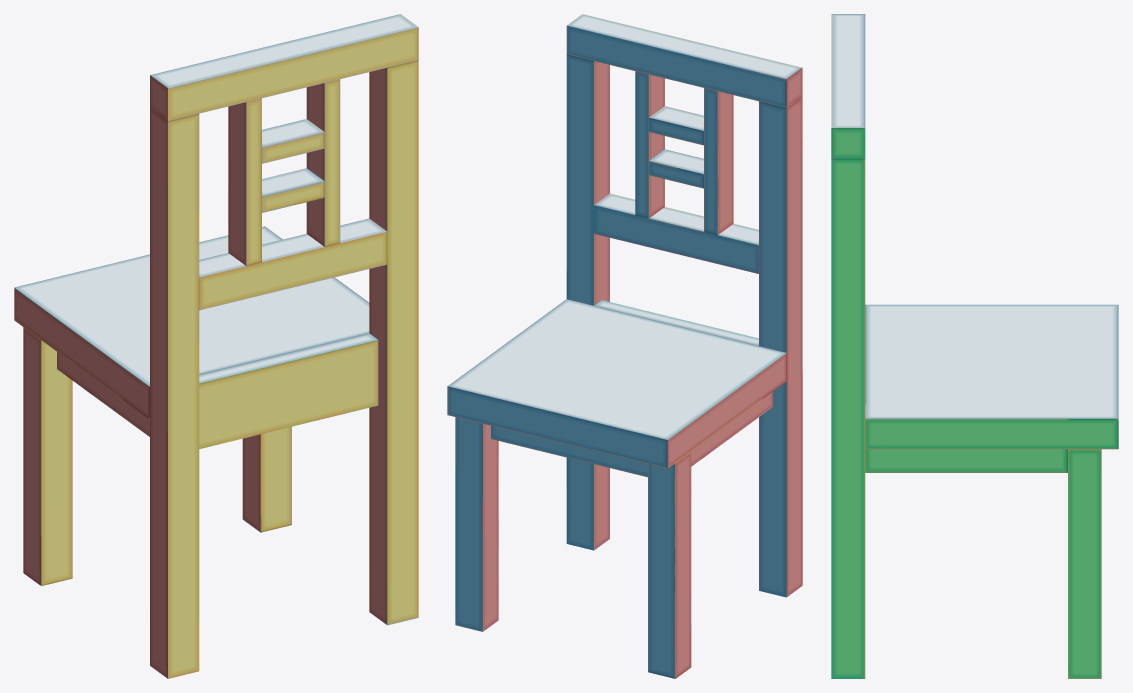
The model's file is Silla de Madera.fbx.
3 views of the same model, side by side, from view 1: azimuth 30°, elevation 25°; view 2: azimuth 150°, elevation 25°; view 3: azimuth 270°, elevation 25° (orthographic). The views are drawn at different scales.
Parts seen in each view (by area): view 1: cube_2, cube_1, cube_8, cube_5, cube_9, cube_3, cube_10, cube_12, cube, cube_11, cube_14, cube_13 (+1 smaller); view 2: cube_8, cube_2, cube_1, cube_9, cube_3, cube, cube_10, cube_12, cube_11, cube_4, cube_14, cube_13 (+2 smaller); view 3: cube_8, cube_1, cube, cube_9, cube_7.
Part boxes in pixels (bbox=[...]): cube_2: bbox=[150, 108, 199, 678]; cube_1: bbox=[369, 60, 418, 625]; cube_8: bbox=[14, 226, 369, 419]; cube_5: bbox=[199, 333, 378, 448]; cube_9: bbox=[150, 14, 418, 120]; cube_3: bbox=[23, 327, 72, 585]; cube_10: bbox=[199, 218, 387, 310]; cube_12: bbox=[228, 98, 261, 265]; cube: bbox=[242, 426, 291, 532]; cube_11: bbox=[306, 79, 340, 246]; cube_14: bbox=[262, 119, 324, 163]; cube_13: bbox=[262, 168, 324, 212]; cube_8: bbox=[447, 299, 786, 468]; cube_2: bbox=[759, 96, 802, 597]; cube_1: bbox=[566, 54, 609, 550]; cube_9: bbox=[566, 14, 802, 107]; cube_3: bbox=[648, 452, 691, 678]; cube: bbox=[455, 417, 498, 631]; cube_10: bbox=[594, 193, 758, 273]; cube_12: bbox=[704, 88, 733, 235]; cube_11: bbox=[635, 71, 664, 218]; cube_4: bbox=[491, 426, 647, 477]; cube_14: bbox=[649, 106, 703, 145]; cube_13: bbox=[649, 149, 703, 188]; cube_8: bbox=[865, 304, 1118, 449]; cube_1: bbox=[831, 158, 865, 678]; cube: bbox=[1068, 449, 1101, 678]; cube_9: bbox=[831, 14, 865, 158]; cube_7: bbox=[865, 449, 1067, 472].
Bounding box in the file's own units: 100 × 225 × 106.
Materials: 1 (1 with a texture image).
